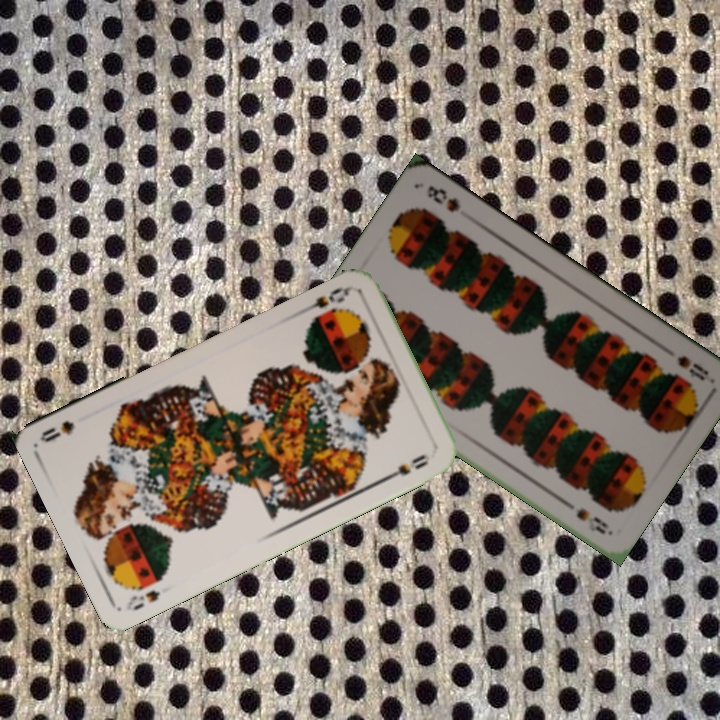S8: (673, 351, 711, 383)
SO: (299, 282, 355, 316), (122, 585, 163, 614)
